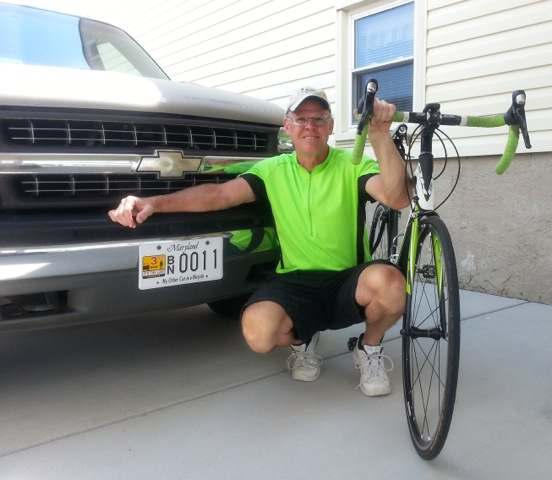license plate: (138, 232, 223, 292)
